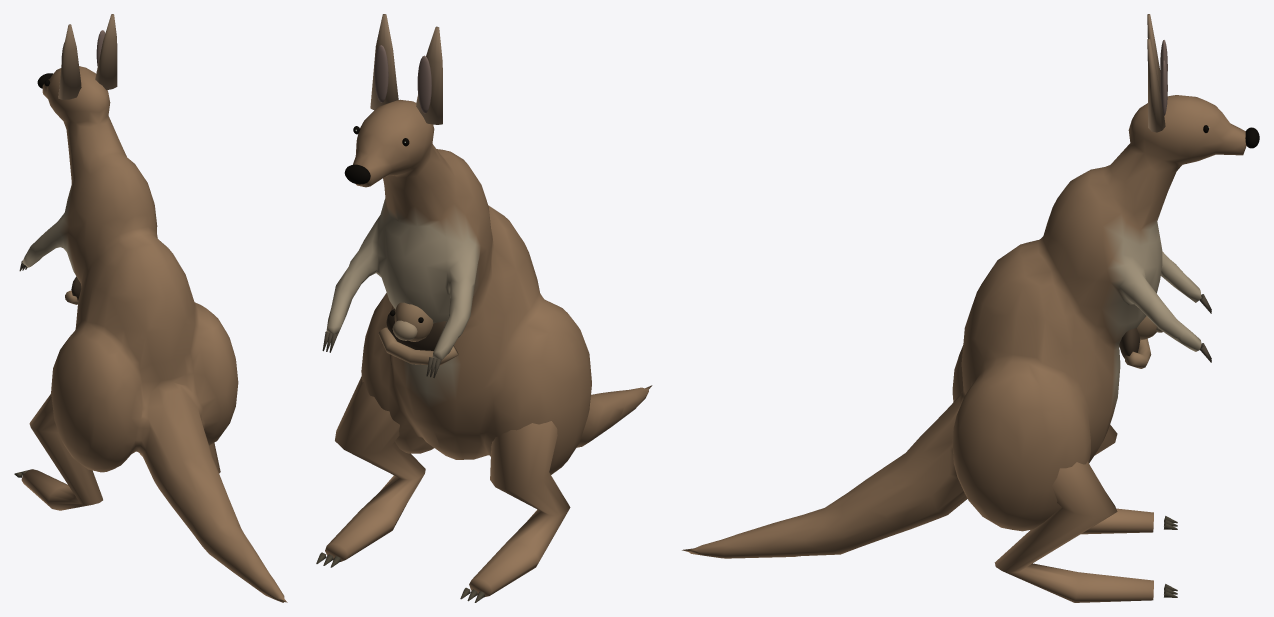
File: animal_kangaroo.glb
3 views of the same model, side by side, from view 1: azimuth 30°, elevation 25°; view 2: azimuth 150°, elevation 25°; view 3: azimuth 270°, elevation 25° (orthographic). The views are drawn at different scales.
Parts seen in each view (by area): view 1: Body, LegBL; view 2: Body, LegBL, LegBR; view 3: Body, LegBR, LegBL.
Part boxes in pixels (bbox=[...]): Body: bbox=[19, 14, 287, 602]; LegBL: bbox=[14, 394, 102, 510]; Body: bbox=[322, 14, 652, 474]; LegBL: bbox=[460, 421, 570, 602]; LegBR: bbox=[316, 376, 425, 567]; Body: bbox=[682, 14, 1259, 558]; LegBR: bbox=[994, 461, 1177, 602]; LegBL: bbox=[1081, 424, 1177, 534].
Size of the model in its own units: 0.7175 by 1.85 by 1.8.
